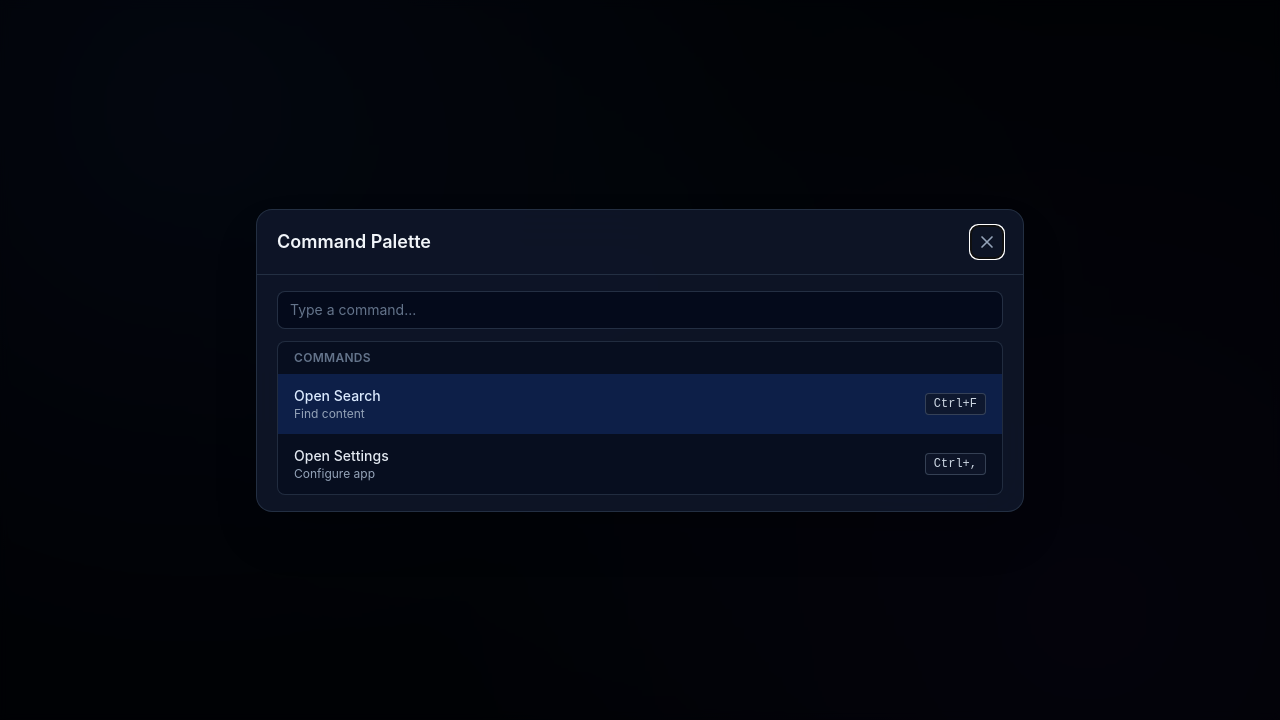
Scenario: CommandPalette › filters commands by search query
Type "settings" into the field labelled "Type a command..." at [640, 310], box [277, 290, 1003, 328]
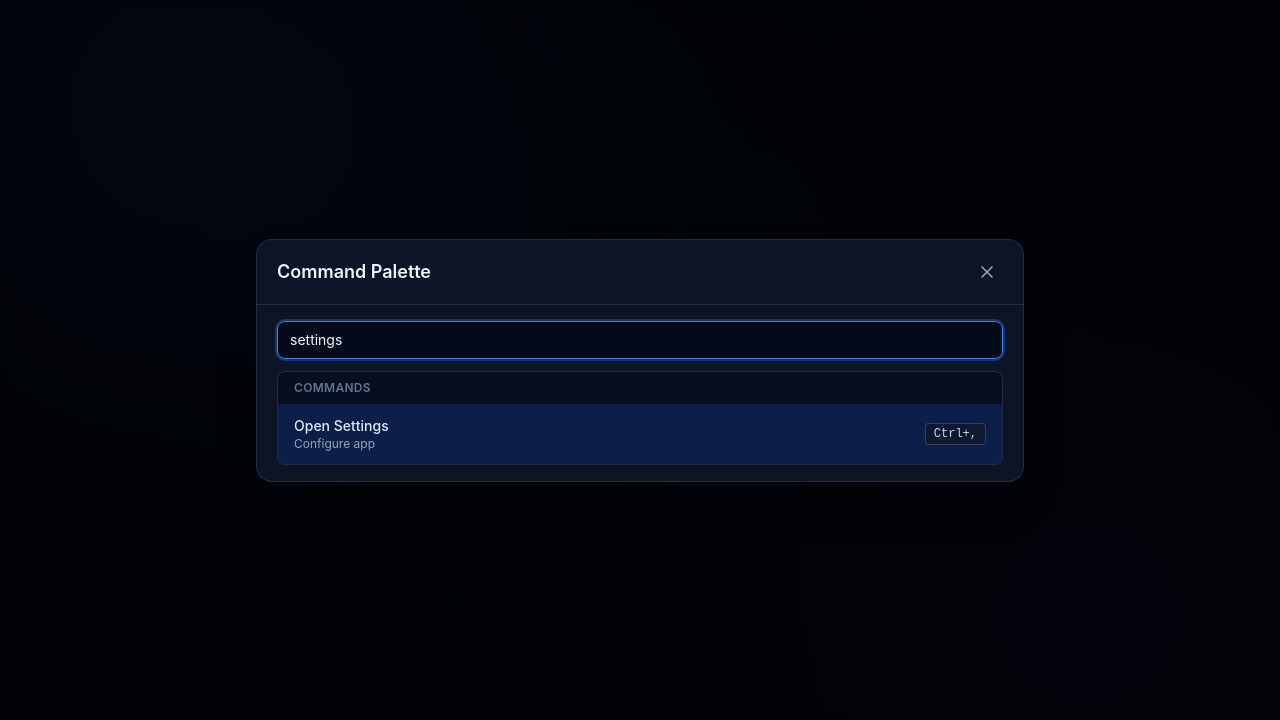
expect the text "Open Settings" is shown: met, box [294, 416, 389, 436]
expect the button "Open Search" is gone: met
